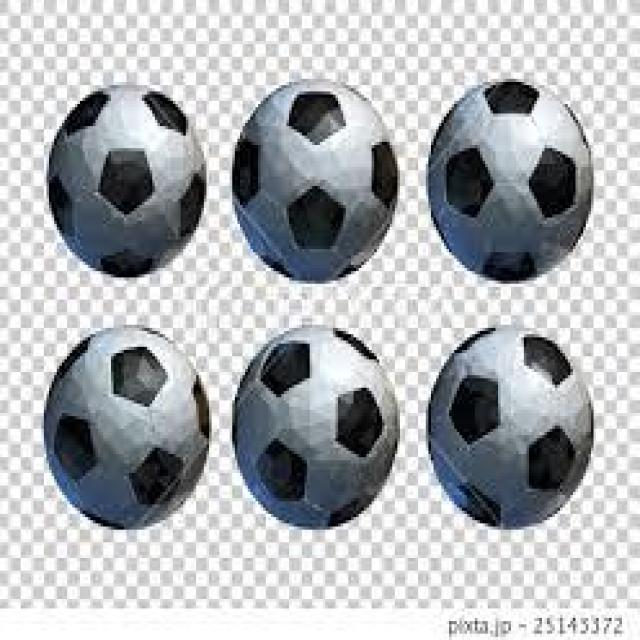Soccer Ball: (232, 324, 398, 530), (431, 79, 594, 287), (232, 78, 398, 280), (44, 324, 209, 526), (428, 331, 594, 527), (49, 82, 206, 274)
